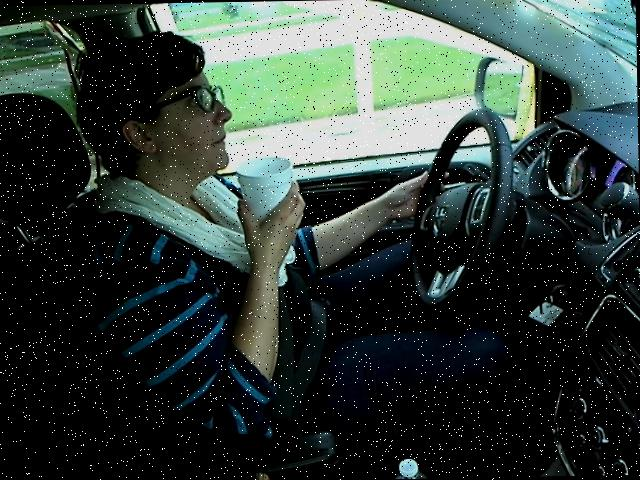c4 - Drinking: (59, 20, 532, 448)
